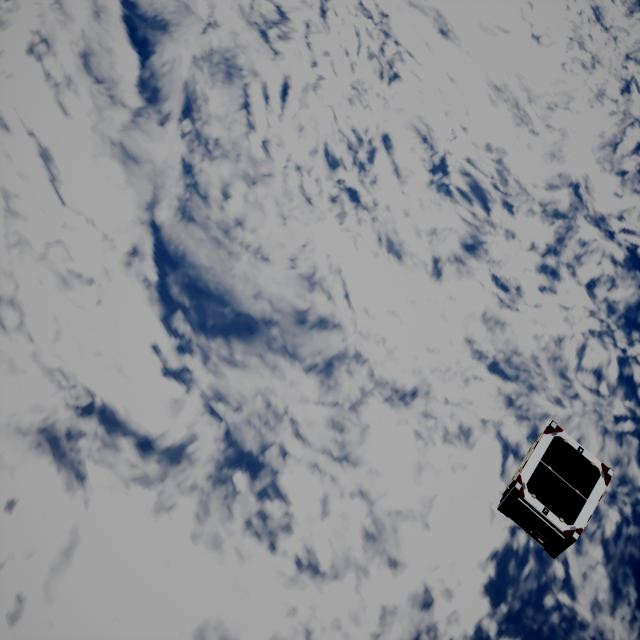satellite: (494, 420, 615, 560)
